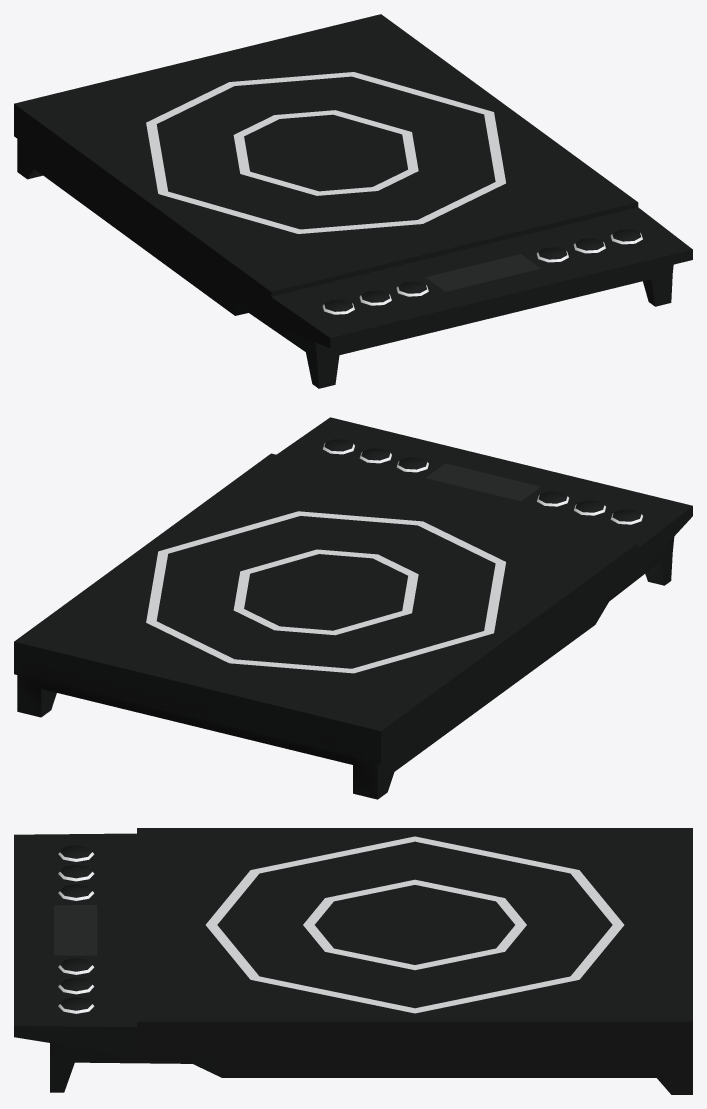
File: cooking_assets_induction_stove.glb
The picture shows the model from 3 angles, top to bottom: view 1: azimuth 30°, elevation 25°; view 2: azimuth 150°, elevation 25°; view 3: azimuth 270°, elevation 25°; orthographic projection. The views are drawn at different scales.
Parts seen in each view (by area): view 1: appliance_stove_induction_Cube.263; view 2: appliance_stove_induction_Cube.263; view 3: appliance_stove_induction_Cube.263.
Part boxes in pixels (box(x1,y1,x2,y2)): appliance_stove_induction_Cube.263: box(14, 14, 692, 388); appliance_stove_induction_Cube.263: box(14, 417, 692, 799); appliance_stove_induction_Cube.263: box(14, 828, 692, 1094).
Size of the model in its own units: 6.16 by 1.11 by 9.13.
Materials: 1 (1 with a texture image).
